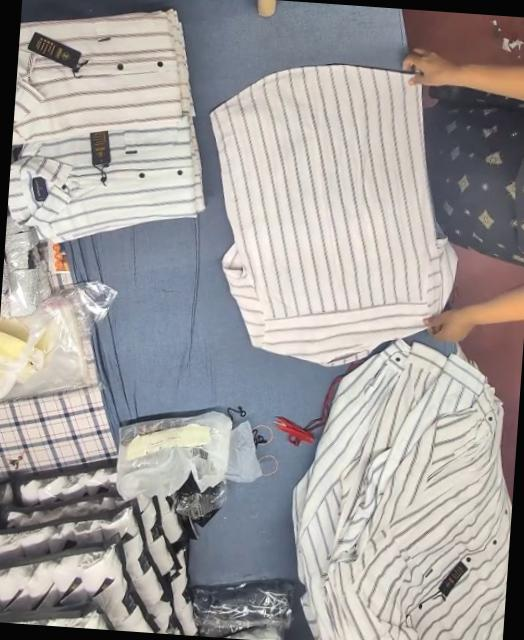new-garment: (211, 66, 455, 364)
